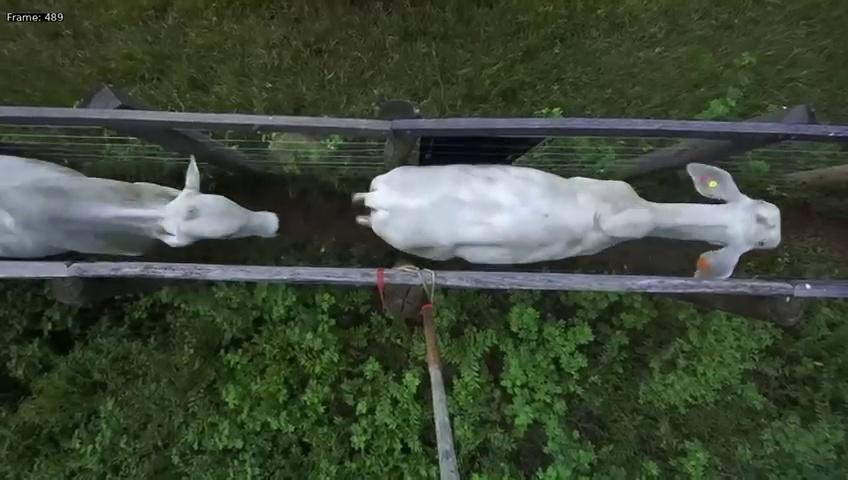cattle: (349, 140, 782, 278), (0, 146, 279, 260)
